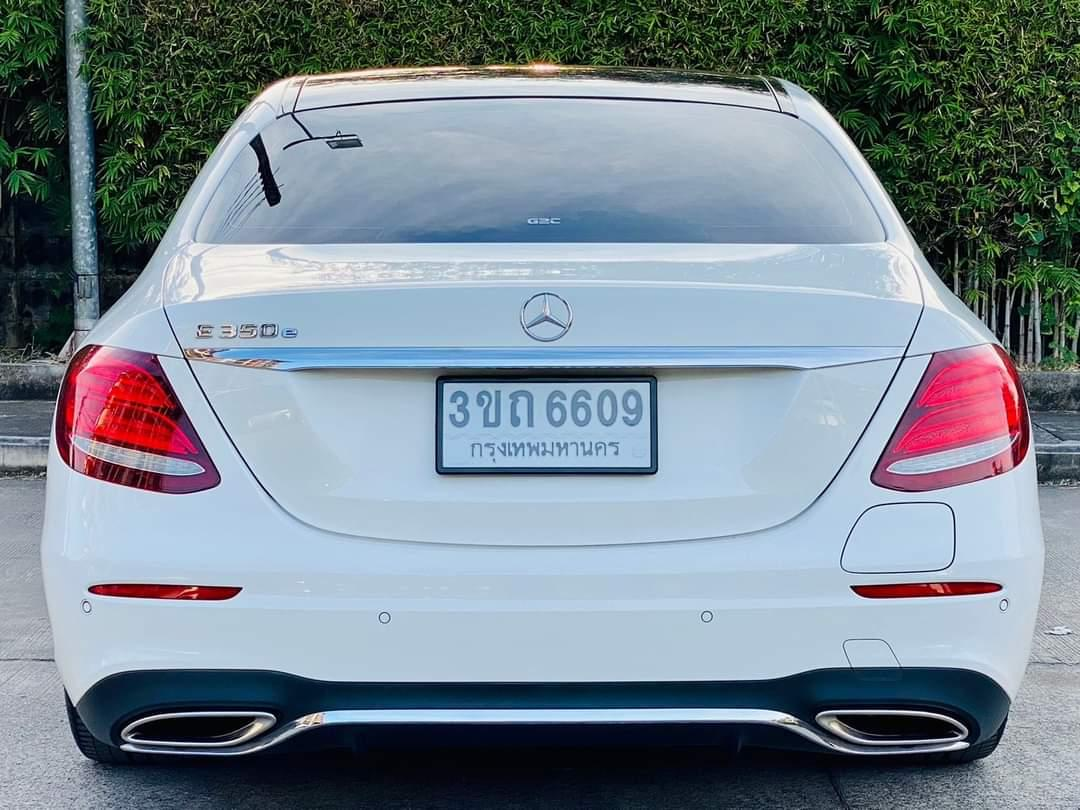license-plate: (435, 374, 655, 473)
